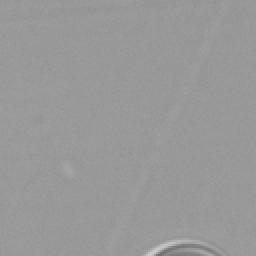picoshell: (144, 238, 224, 254)
